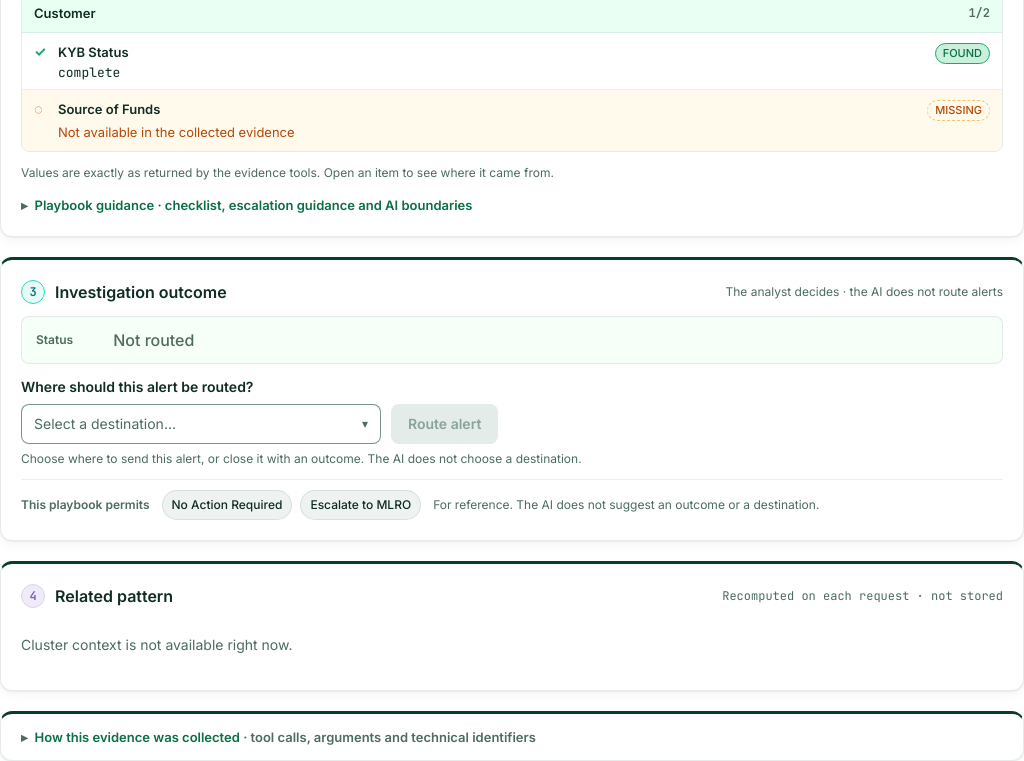
routing › records No Further Action as an outcome when the playbook permits it
This screenshot has width=1024, height=761.
(page scrolled)
Step 1. Click the button with aria-label "Routing destination" → (105, 424), box [21,404,381,444]
(page scrolled)
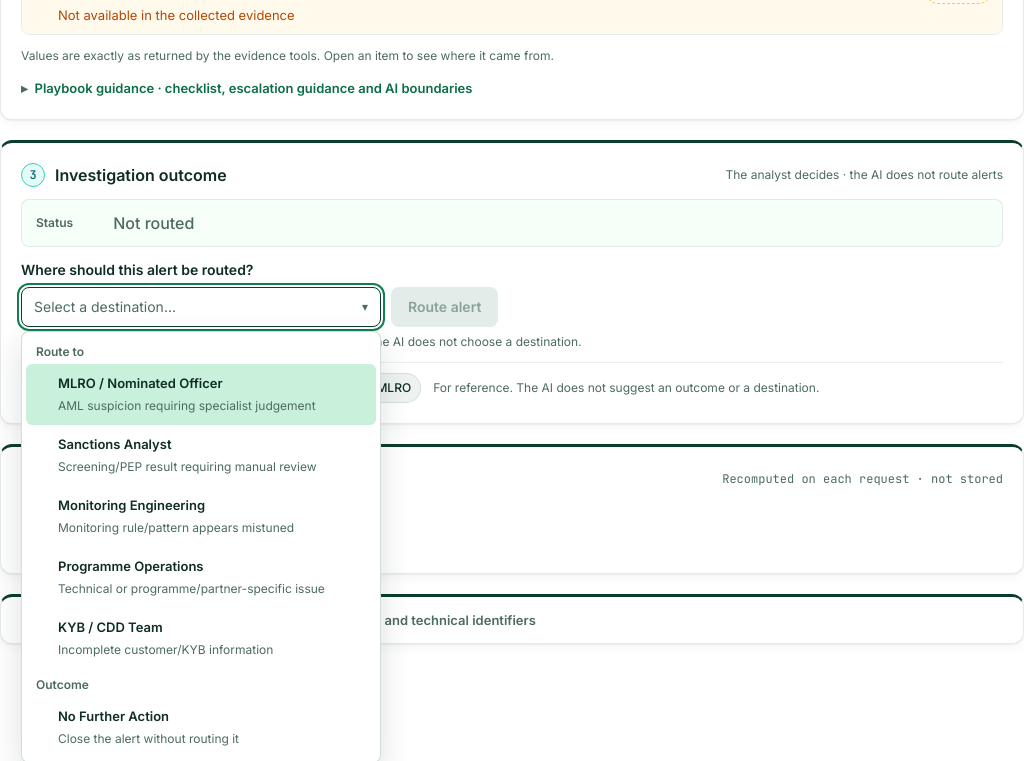
Step 2. Click the option "No Further Action Close the alert without routing it" → (114, 716), box [58,708,239,746]
(page scrolled)
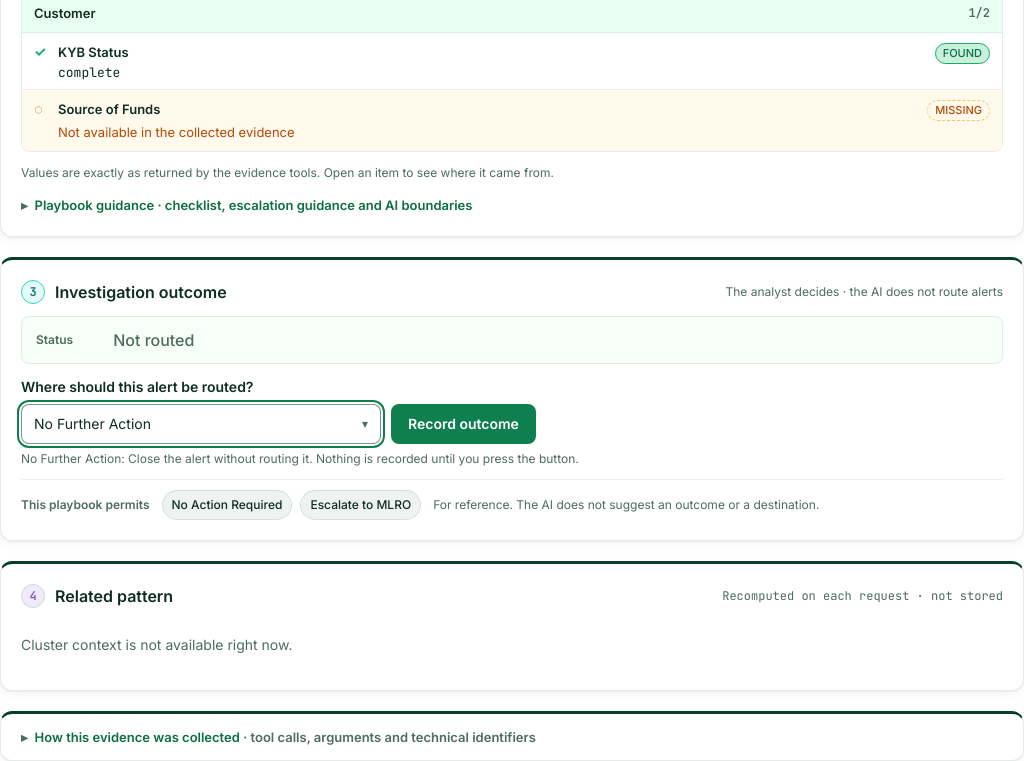
Step 3. Click the button "Record outcome" → (463, 424), box [391,404,536,444]
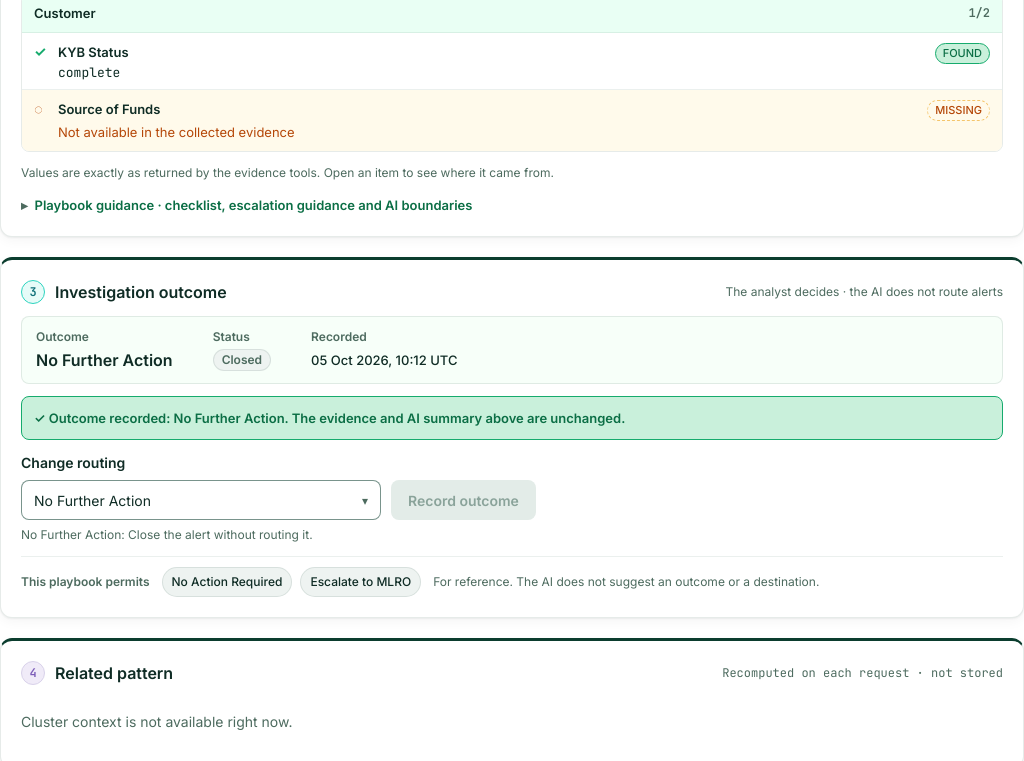
Expected: the text "Outcome recorded: No Further Action." is shown, [49,410,288,426]
Expected: the text "Closed" is shown, [213,349,271,371]
